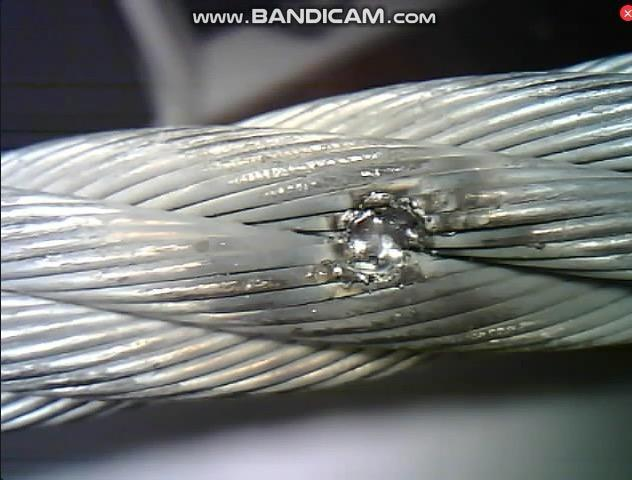thunderbolt: (299, 153, 484, 327)
